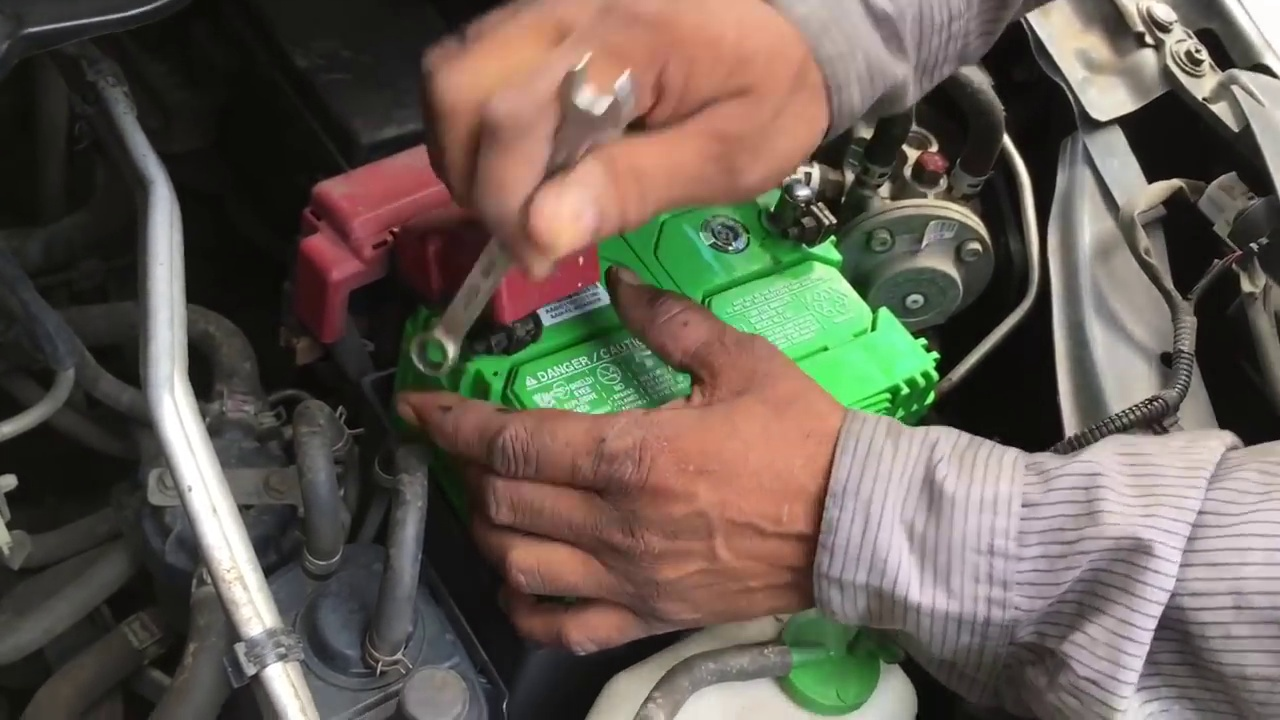battery: (382, 148, 935, 474)
neg_connected: (764, 166, 852, 279)
neg_touched: (663, 67, 838, 270)
pos_touched: (369, 174, 618, 509)
